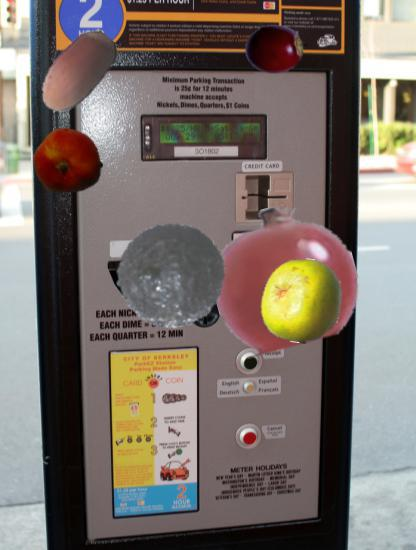Avocado: (116, 216, 233, 333)
Hazelnut: (29, 25, 124, 120)
Nectarine: (33, 126, 103, 196)
Pomelo: (259, 258, 344, 343)
Redcurrant: (212, 206, 356, 350)
Tamarillo: (245, 18, 307, 80)
